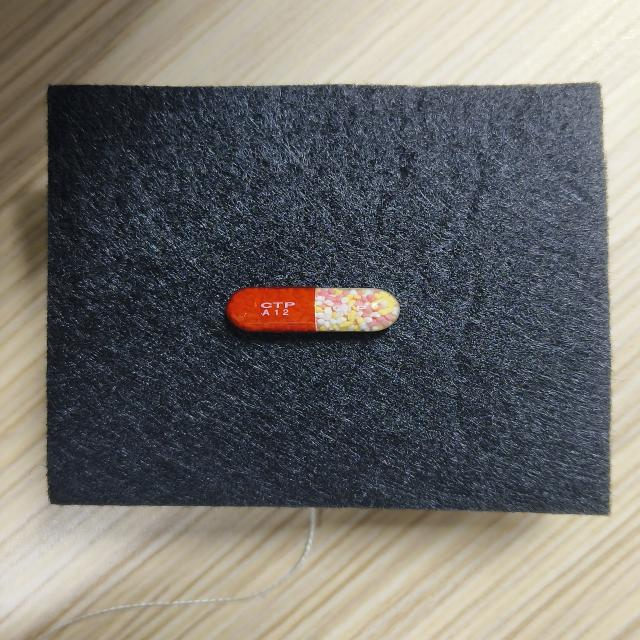Intact Capsule: (226, 287, 400, 333)
